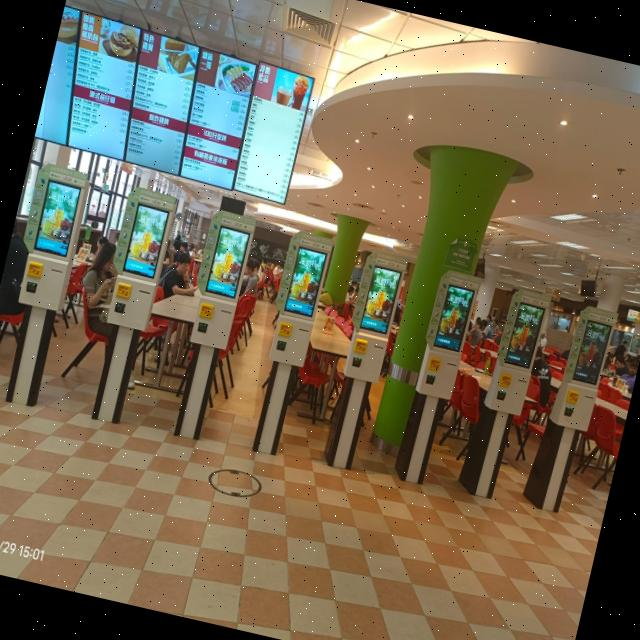orderKiosk: (9, 164, 92, 316), (99, 186, 177, 332), (184, 217, 256, 350), (339, 248, 408, 386), (550, 302, 616, 433), (266, 238, 331, 366), (484, 294, 548, 416), (415, 276, 477, 400)
